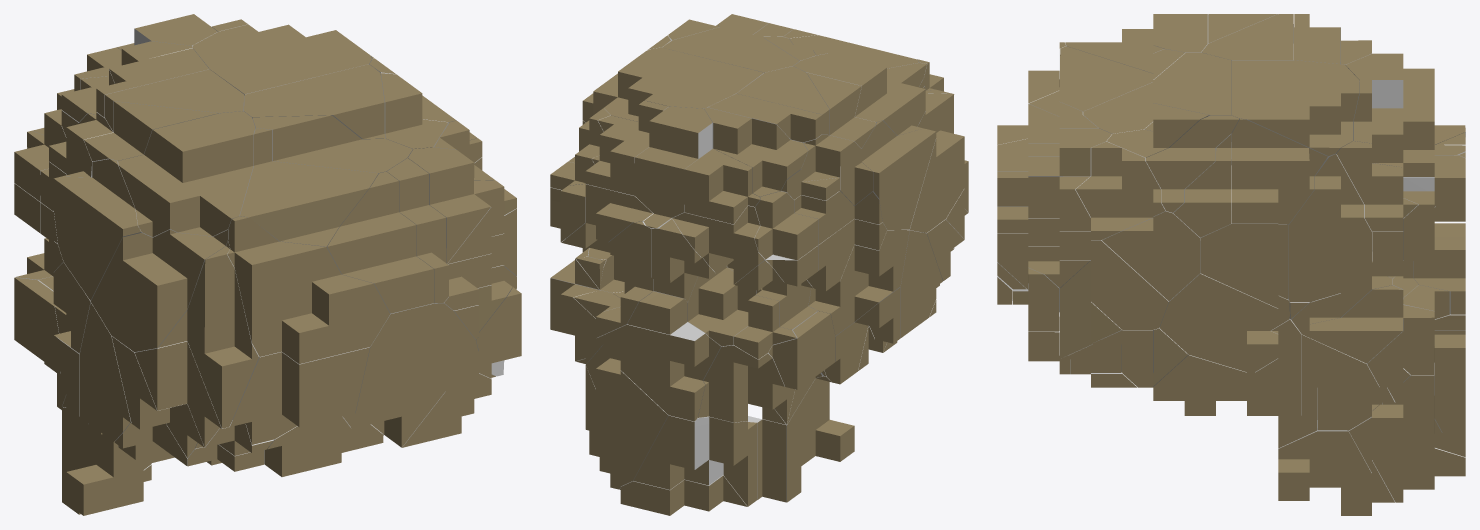
The model's file is SkullCandleAfter.glb.
3 renders of one model, left to right at view 1: azimuth 30°, elevation 25°; view 2: azimuth 150°, elevation 25°; view 3: azimuth 270°, elevation 25°, orthographic. The views are drawn at different scales.
Parts seen in each view (by area): view 1: skull_cell.087, skull_cell.080, skull_cell.061, skull_cell.058, skull_cell.037, skull_cell.042, skull_cell.028, skull_cell.062, skull_cell.084, skull_cell.005, skull_cell.060, skull_cell.077 (+36 smaller); view 2: skull_cell.009, skull_cell.084, skull_cell.096, skull_cell.082, skull_cell.080, skull_cell.005, skull_cell.021, skull_cell.004, skull_cell.051, skull_cell.061, skull_cell.077, skull_cell.019 (+45 smaller); view 3: skull_cell.084, skull_cell.098, skull_cell.072, skull_cell.045, skull_cell.041, skull_cell.015, skull_cell.026, skull_cell.024, skull_cell.093, skull_cell.012, skull_cell.094, skull_cell.074 (+39 smaller).
Part boxes in pixels (x1,y1,x2,y2): skull_cell.087: (227, 216, 389, 364); skull_cell.080: (118, 111, 255, 237); skull_cell.061: (91, 229, 228, 351); skull_cell.058: (355, 303, 478, 413); skull_cell.037: (240, 128, 378, 246); skull_cell.042: (326, 171, 433, 313); skull_cell.028: (230, 347, 369, 444); skull_cell.062: (158, 240, 259, 428); skull_cell.084: (192, 24, 371, 95); skull_cell.005: (53, 159, 141, 300); skull_cell.060: (244, 64, 385, 139); skull_cell.077: (62, 407, 143, 515); skull_cell.009: (596, 322, 720, 421); skull_cell.084: (604, 47, 763, 121); skull_cell.096: (635, 106, 712, 228); skull_cell.082: (586, 344, 668, 485); skull_cell.080: (793, 53, 926, 135); skull_cell.005: (861, 120, 936, 229); skull_cell.021: (698, 345, 794, 424); skull_cell.004: (808, 229, 909, 336); skull_cell.051: (704, 107, 807, 196); skull_cell.061: (909, 77, 964, 232); skull_cell.077: (786, 376, 854, 502); skull_cell.019: (633, 415, 723, 489); skull_cell.084: (1231, 60, 1359, 158); skull_cell.098: (1287, 154, 1371, 302); skull_cell.072: (1159, 240, 1289, 372); skull_cell.045: (1231, 118, 1327, 224); skull_cell.041: (1349, 375, 1441, 502); skull_cell.015: (1278, 430, 1395, 515); skull_cell.026: (1200, 224, 1288, 308); skull_cell.024: (1075, 141, 1166, 240); skull_cell.093: (1302, 334, 1394, 430); skull_cell.012: (1102, 211, 1199, 300); skull_cell.094: (1353, 80, 1434, 176); skull_cell.074: (1247, 319, 1317, 448).
Bounding box in the file's own units: 1.8 × 2.1 × 2.25.
1 material, 1 textured.
